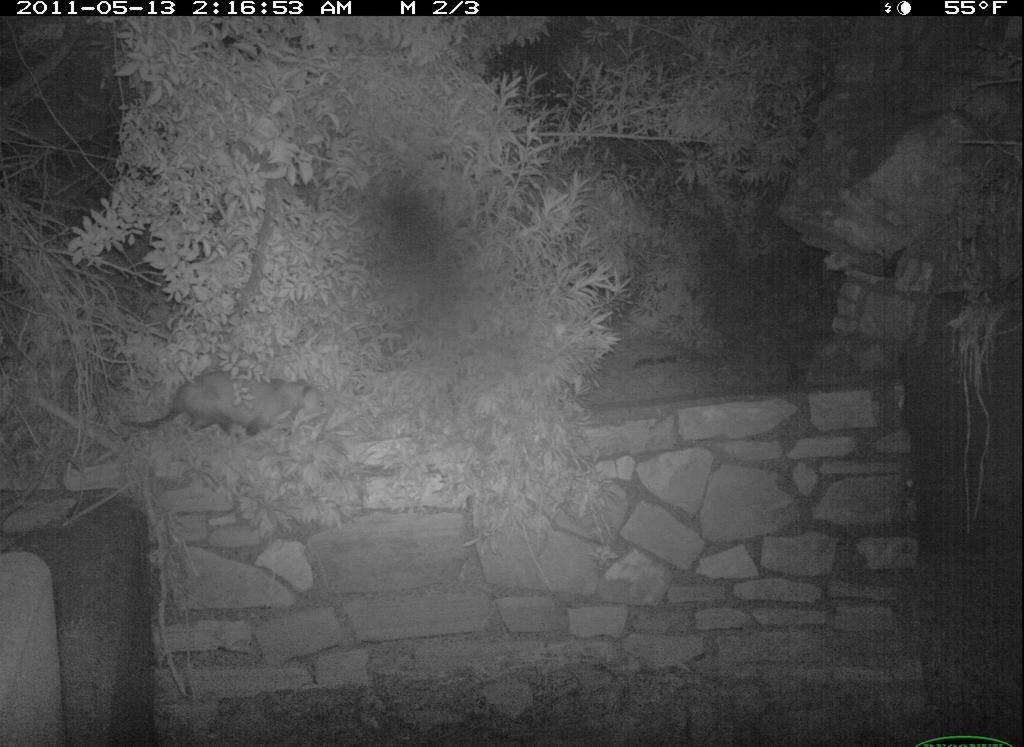opossum: (105, 355, 346, 460)
